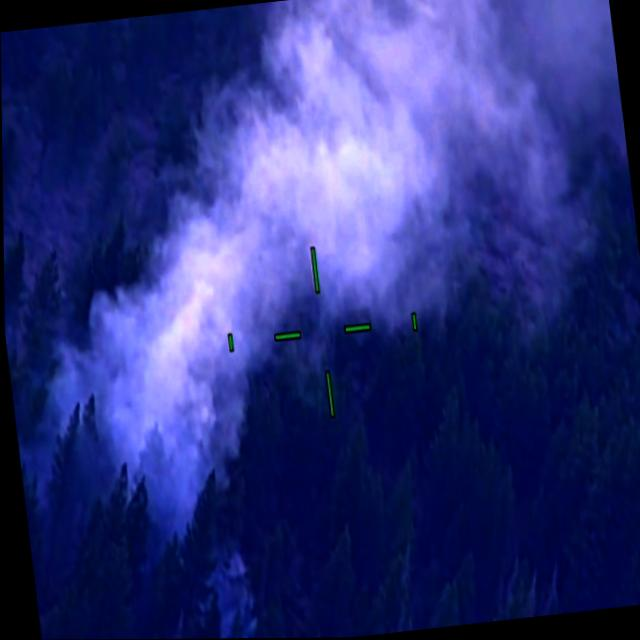smoke: (217, 108, 446, 307), (100, 314, 223, 511), (487, 0, 609, 190), (286, 0, 498, 103)
